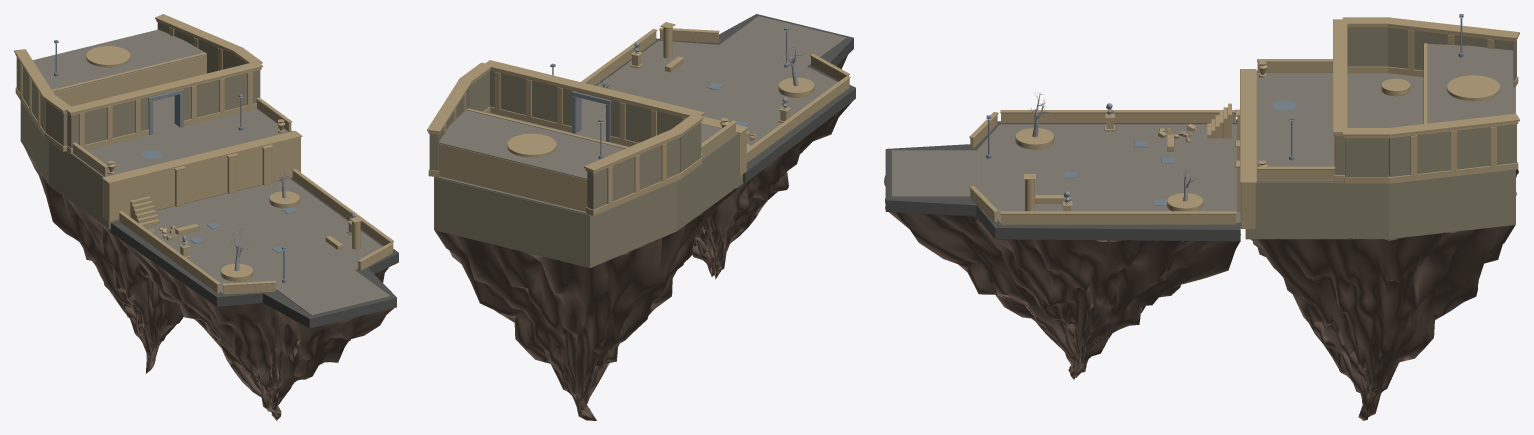
File: b_terraces.glb
3 renders of one model, left to right at view 1: azimuth 30°, elevation 25°; view 2: azimuth 150°, elevation 25°; view 3: azimuth 270°, elevation 25°, orthographic. The views are drawn at different scales.
Visible parts, largest first — view 1: island_b_terraces, chunk_garden; view 2: island_b_terraces, chunk_garden; view 3: island_b_terraces, chunk_garden.
Part boxes in pixels (box(x1,y1,x2,y2)): island_b_terraces: box(14, 14, 302, 373); chunk_garden: box(110, 169, 398, 420); island_b_terraces: box(427, 60, 748, 420); chunk_garden: box(581, 14, 855, 279); island_b_terraces: box(1235, 14, 1519, 420); chunk_garden: box(884, 92, 1240, 379).
Size of the model in its own units: 22.85 by 34.16 by 52.49.
